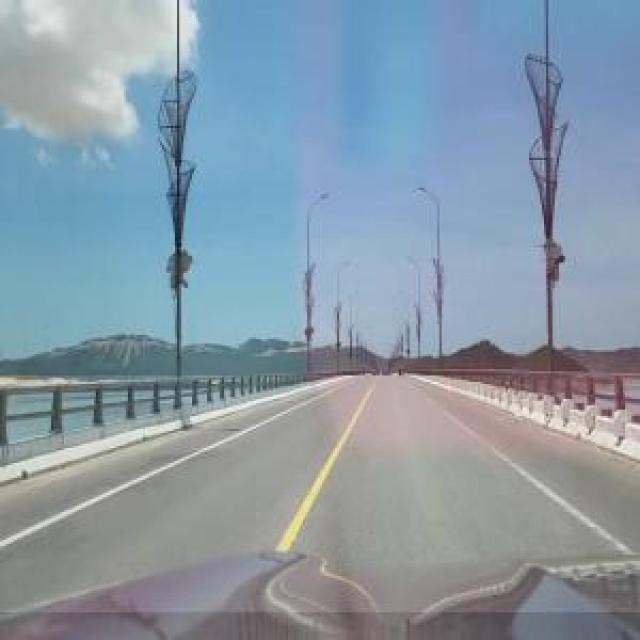clear-road: (0, 376, 640, 612), (1, 400, 305, 540)
